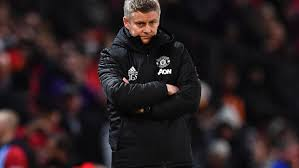middle_eastern_male: (129, 8, 160, 43)
